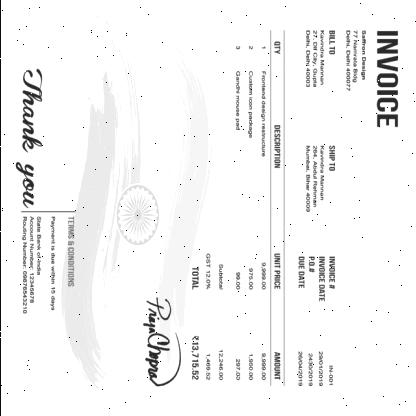Paragraph: (20, 214, 74, 315), (296, 254, 336, 388), (188, 249, 224, 383), (375, 29, 399, 129), (304, 143, 336, 214), (304, 28, 336, 90), (344, 28, 368, 92)
Table: (228, 28, 284, 386)
